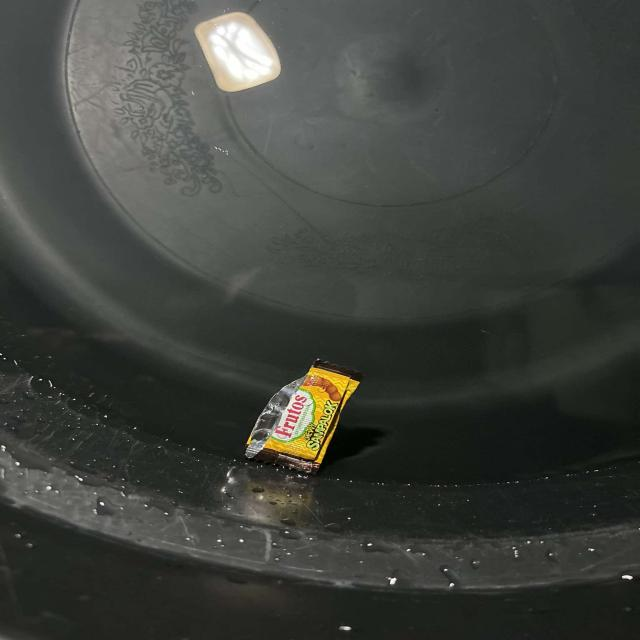Plastic Wrapper: (245, 360, 360, 472)
